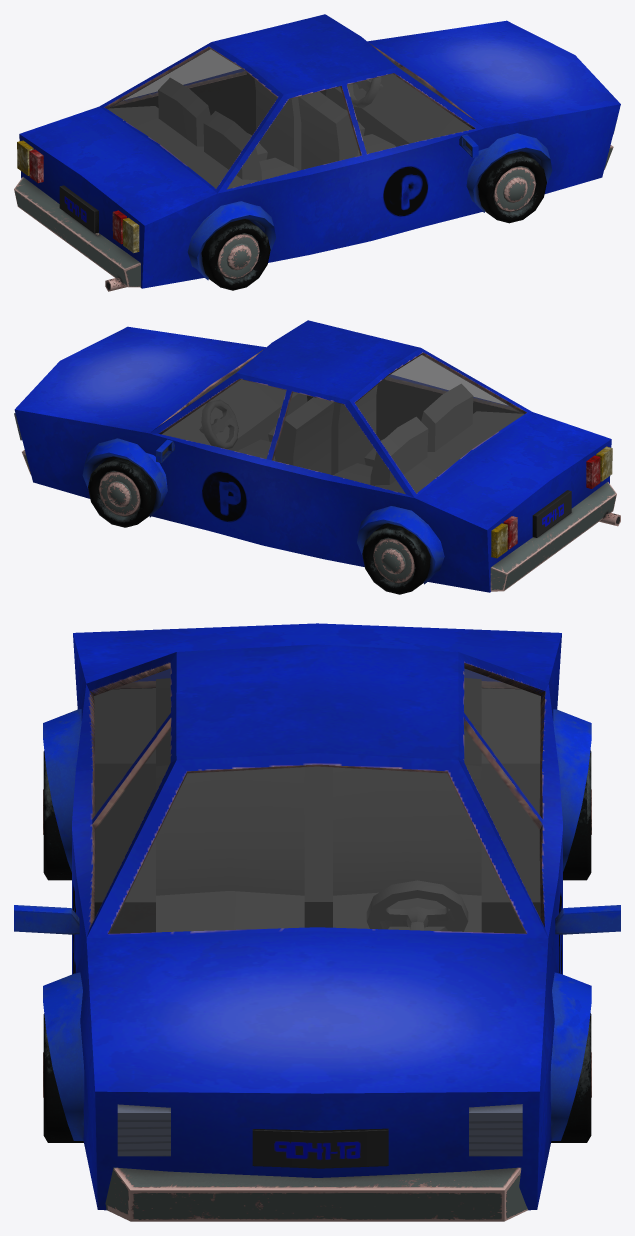
The model's file is normal_car1a.fbx.
The picture shows the model from 3 angles, top to bottom: view 1: azimuth 30°, elevation 25°; view 2: azimuth 150°, elevation 25°; view 3: azimuth 270°, elevation 25°; orthographic projection. The views are drawn at different scales.
Visible parts, largest first — view 1: Body, Windows, Seats, Covers, Wheels, WheelArches, Bumpers, Lights, NumberPlates, SteeringWheel; view 2: Body, Windows, Seats, Wheels, Covers, WheelArches, Bumpers, Lights, SteeringWheel, NumberPlates; view 3: Body, Windows, Seats, Covers, Bumpers, WheelArches, Wheels, Lights, NumberPlates, SteeringWheel, Mirror.
Boxes of the visible parts, x1,y1,x2,y2 form: Body: (19,14,620,288); Windows: (107,48,472,189); Seats: (158,78,395,180); Covers: (108,65,471,189); Wheels: (201,151,546,290); WheelArches: (187,133,552,280); Bumpers: (14,145,613,287); Lights: (17,118,617,253); NumberPlates: (59,185,98,233); SteeringWheel: (347,77,382,107); Body: (14,320,611,592); Windows: (162,354,524,493); Seats: (237,384,473,485); Wheels: (88,456,430,594); Covers: (162,370,523,493); WheelArches: (82,438,444,584); Bumpers: (22,450,616,591); Lights: (14,413,612,558); SteeringWheel: (199,399,238,449); NumberPlates: (532,490,571,537); Body: (72,623,562,1210); Windows: (94,668,540,933); Seats: (156,678,481,932); Covers: (94,688,540,902); Bumpers: (105,1167,527,1221); WheelArches: (43,709,591,1140); Wheels: (43,750,591,1142); Lights: (117,1104,522,1156); NumberPlates: (252,1128,388,1168); SteeringWheel: (366,880,468,931); Mirror: (14,905,620,934).
Bounding box in the file's own units: 8.52 × 2.45 × 4.46.
